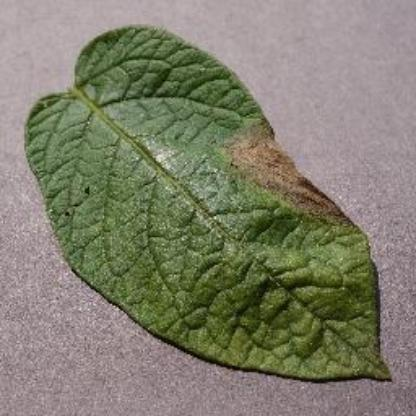Late-Blight: (17, 17, 404, 389)
